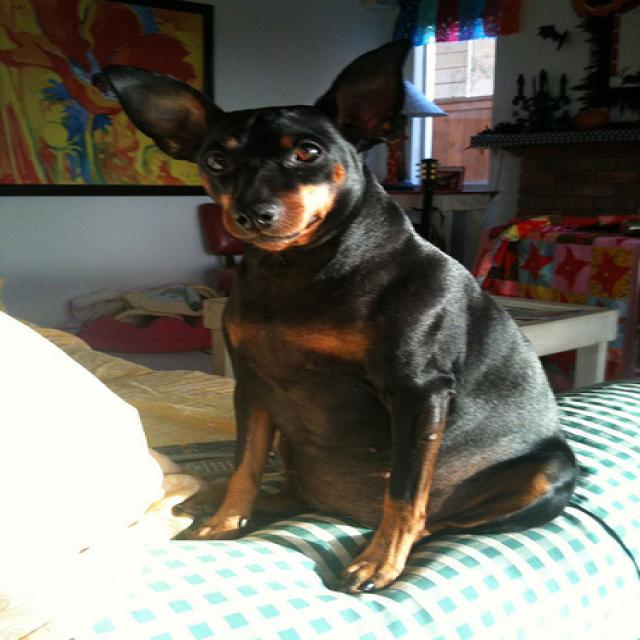dog-miniature_pinscher: (94, 28, 589, 604)
